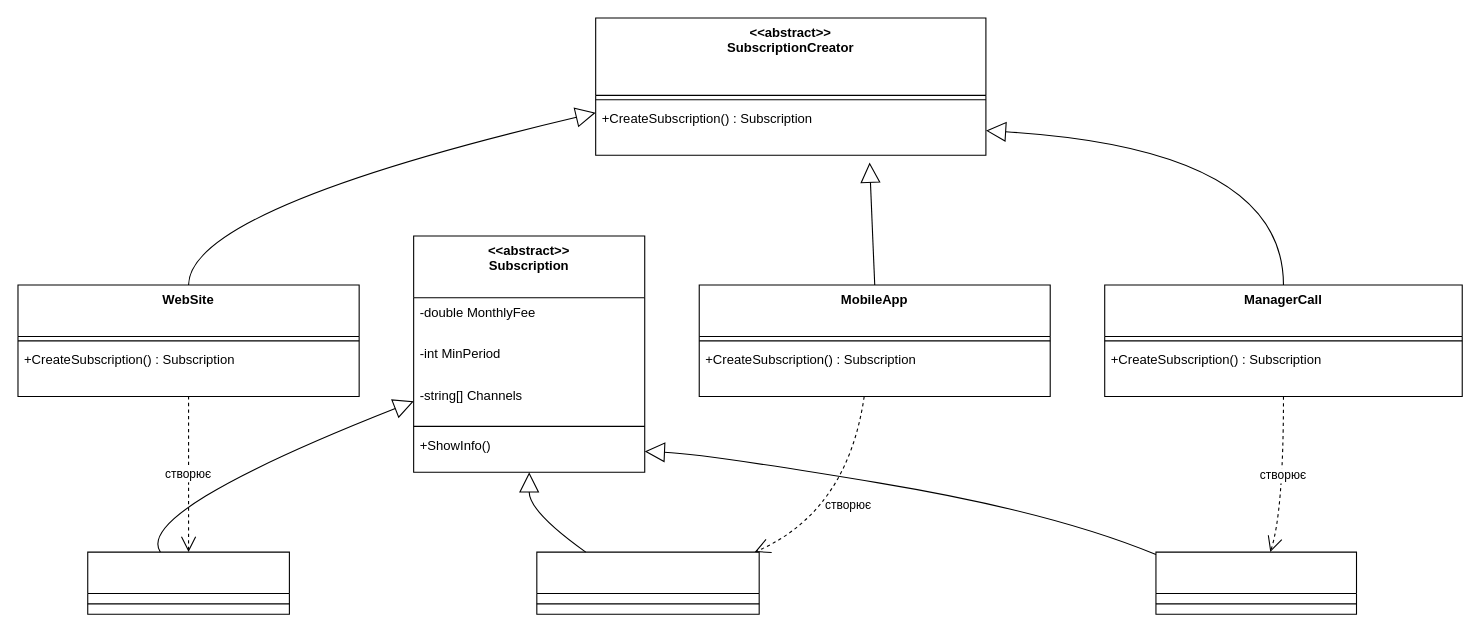
This 1480x632 diagram has some shape labels left out. Here are the shapes that lost their labels. From the top down, the centre of each, then its label:
At point 188,582: "DomesticSubscription".
At point 647,582: "EducationalSubscription".
At point 1256,582: "PremiumSubscription".
